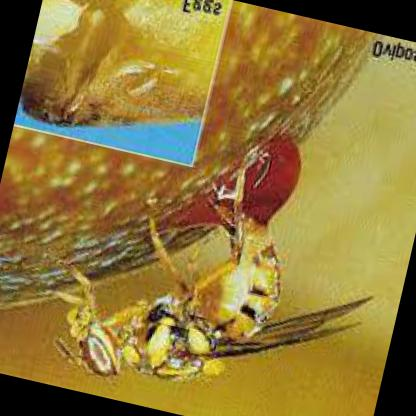fruit fly: (46, 147, 374, 382)
